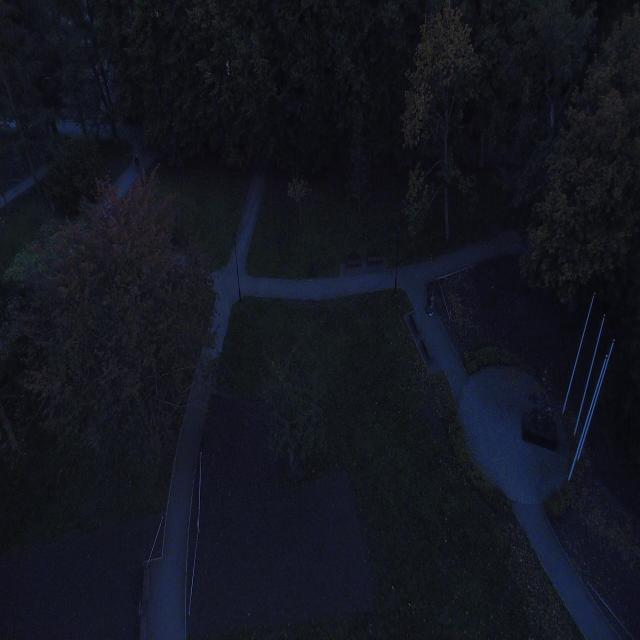p3rson: (425, 292, 432, 313), (429, 293, 435, 316), (135, 154, 140, 173)
